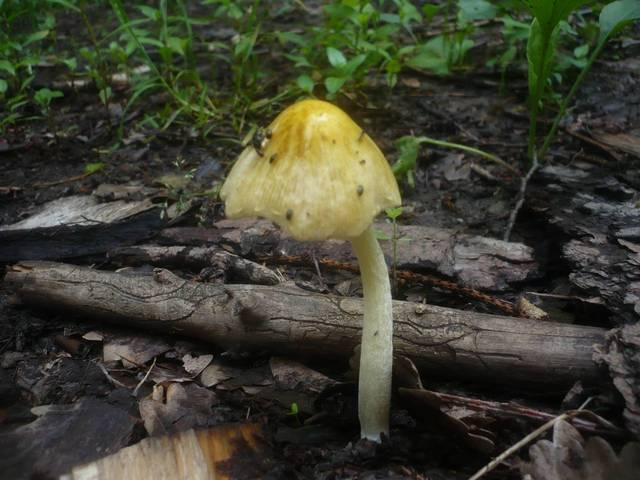edible_mushroom: (217, 97, 403, 445)
